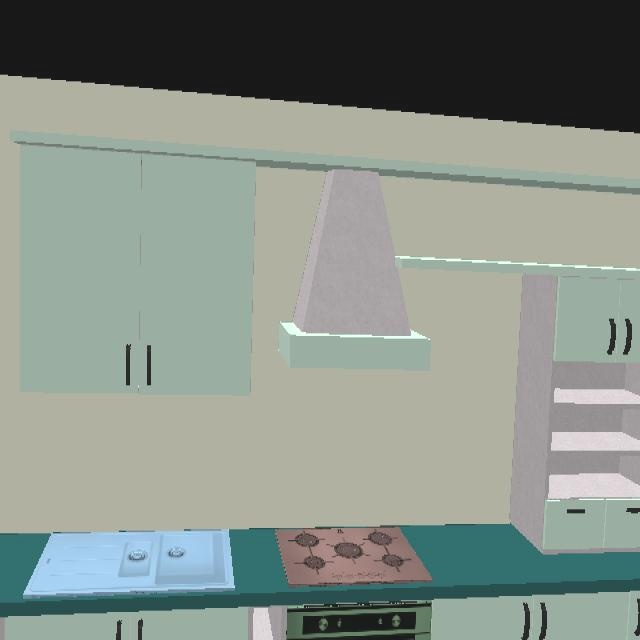cabinet: (20, 147, 257, 397), (510, 269, 640, 556), (429, 592, 640, 640), (1, 607, 250, 640)
countertop: (0, 525, 640, 616)
oven: (255, 601, 433, 640)
sink: (22, 529, 237, 603)
stove: (271, 528, 433, 591)
